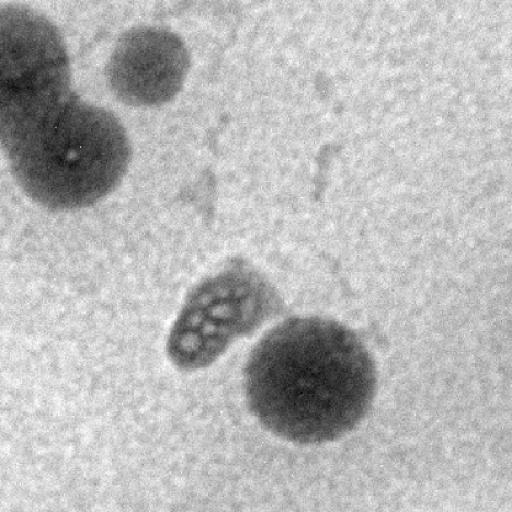Nanoparticles: (240, 308, 382, 444), (6, 97, 132, 209), (0, 5, 74, 143), (101, 16, 200, 110)
